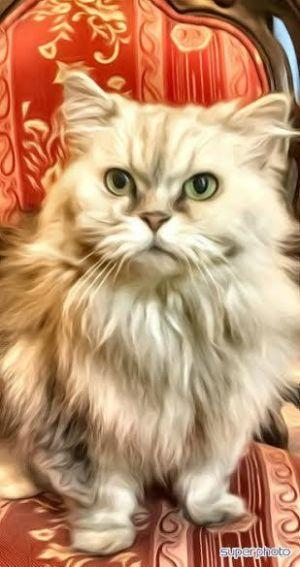persian: (47, 59, 296, 288)
